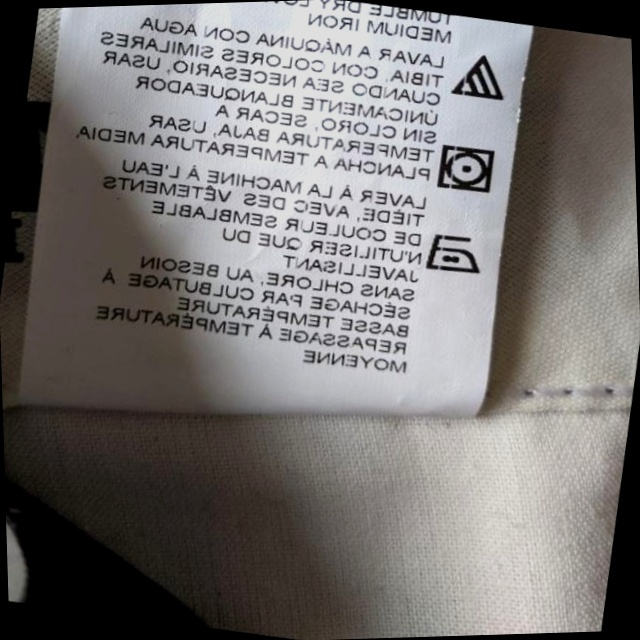iron_medium: (420, 226, 483, 278)
non_chlorine_bleach: (444, 45, 512, 111)
tumble_dry_low: (432, 137, 503, 199)
